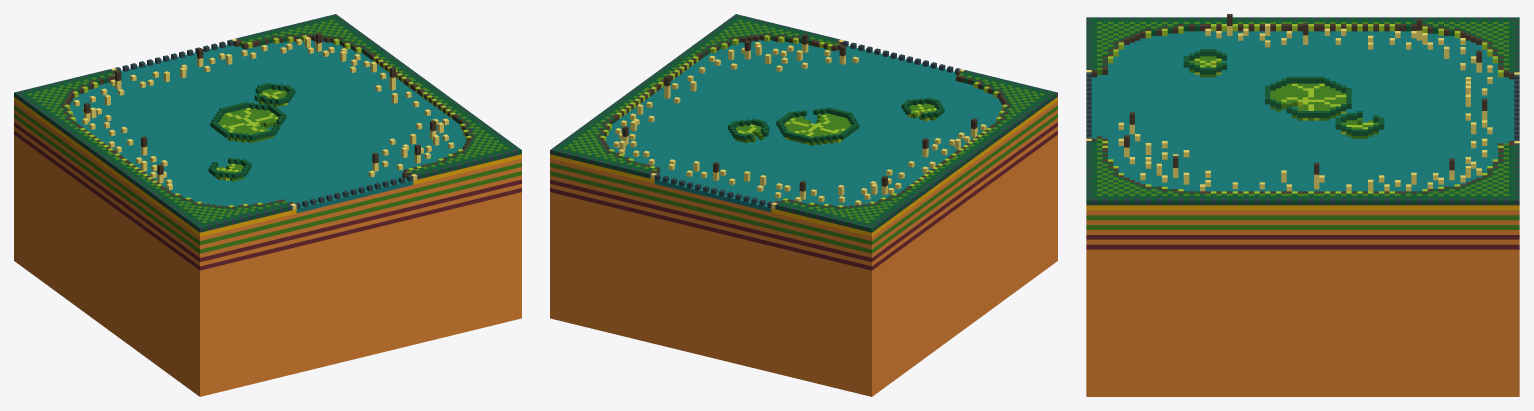
Rendered from swamp_2_tile.obj.
3 views of the same model, side by side, from view 1: azimuth 30°, elevation 25°; view 2: azimuth 150°, elevation 25°; view 3: azimuth 270°, elevation 25° (orthographic). The views are drawn at different scales.
Size of the model in its own units: 8 by 4.4 by 8.
Materials: 1 (1 with a texture image).
